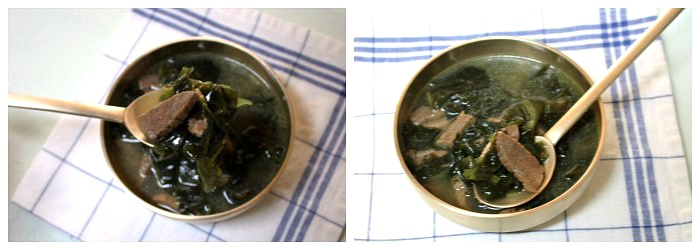miyeoggug: (390, 31, 617, 219), (88, 30, 310, 219)
